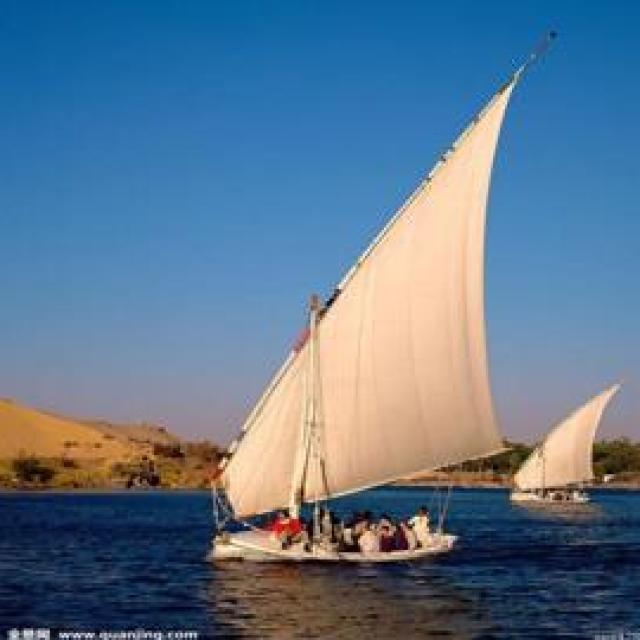sailboat: (209, 24, 556, 564), (512, 376, 620, 514)
